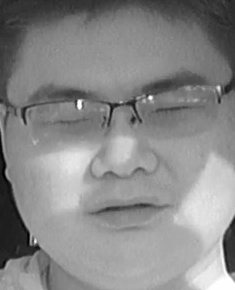blink: (46, 112, 89, 131), (154, 102, 194, 118)
glass: (130, 83, 220, 140), (22, 98, 115, 150)
mouth: (83, 195, 161, 230)
